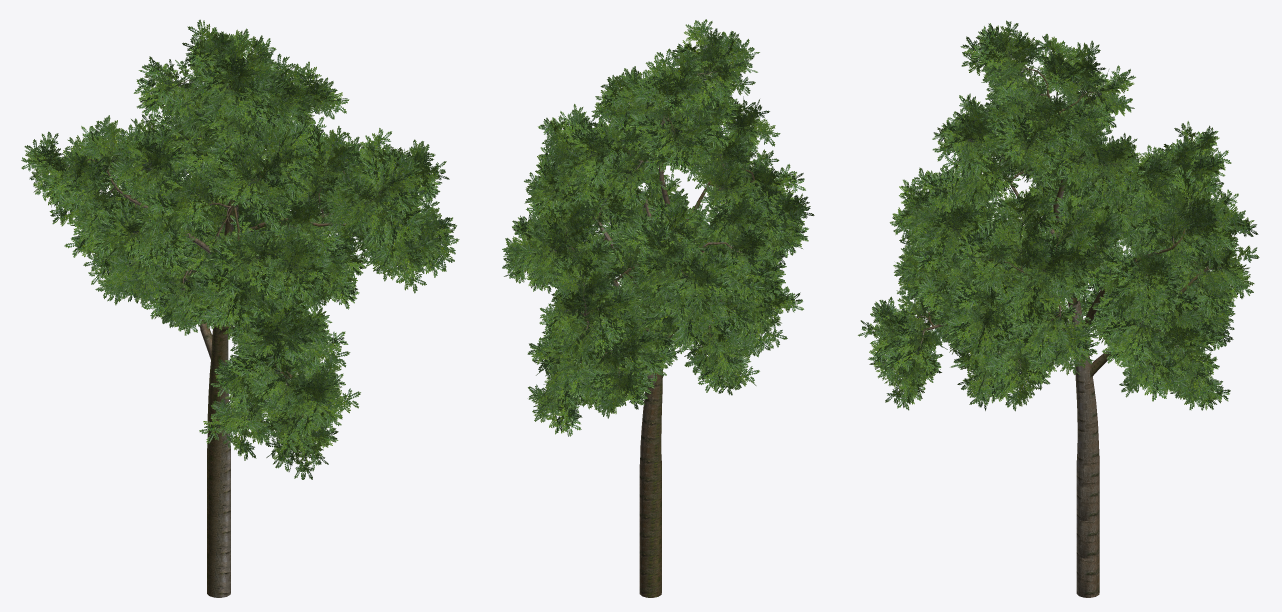
File: Tree1.fbx
3 views of the same model, side by side, from view 1: azimuth 30°, elevation 25°; view 2: azimuth 150°, elevation 25°; view 3: azimuth 270°, elevation 25° (orthographic). The views are drawn at different scales.
Visible parts, largest first — view 1: Tree1; view 2: Tree1; view 3: Tree1.
Boxes of the visible parts, left/top/right/bottom form: Tree1: left=21, top=19, right=459, bottom=597; Tree1: left=502, top=19, right=814, bottom=597; Tree1: left=858, top=20, right=1259, bottom=597.
Bounding box in the file's own units: 744 × 1264 × 841.
Materials: 2 (2 with a texture image).
